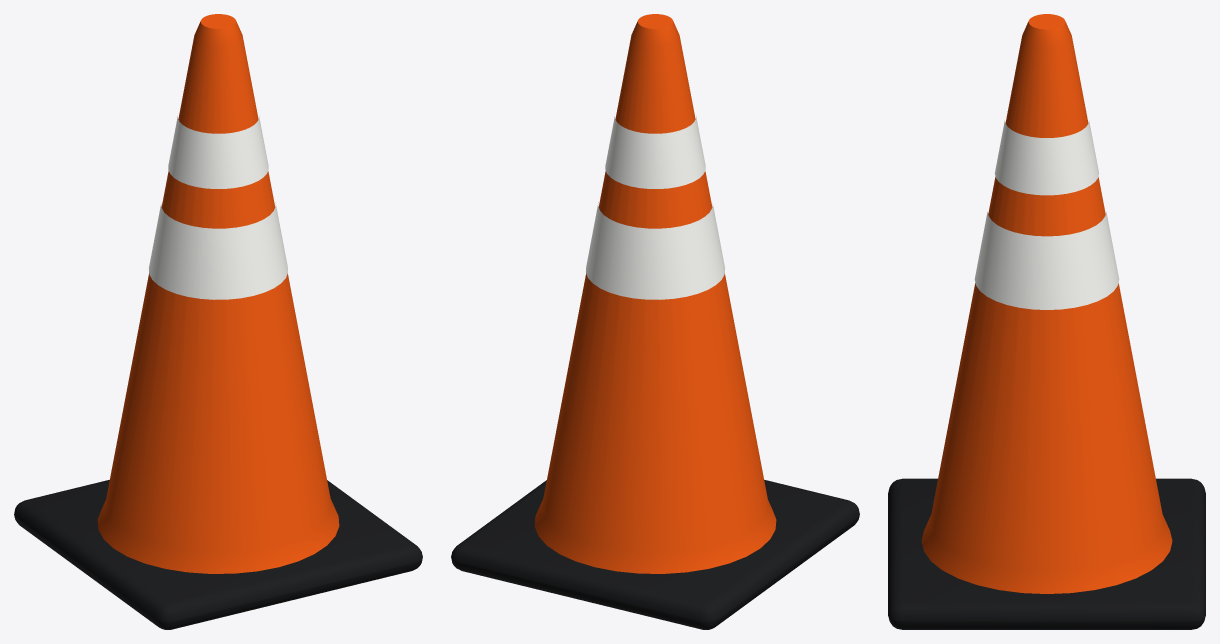
File: traffic-cone.glb
The picture shows the model from 3 angles, left to right: view 1: azimuth 30°, elevation 25°; view 2: azimuth 150°, elevation 25°; view 3: azimuth 270°, elevation 25°; orthographic projection. The views are drawn at different scales.
Visible parts, largest first — view 1: Traffic_Cone; view 2: Traffic_Cone; view 3: Traffic_Cone.
Part boxes in pixels (x1=…): Traffic_Cone: x1=14, y1=14, x2=422, y2=629; Traffic_Cone: x1=451, y1=14, x2=859, y2=629; Traffic_Cone: x1=888, y1=14, x2=1205, y2=629.
Size of the model in its own units: 0.38 by 0.72 by 0.38.
